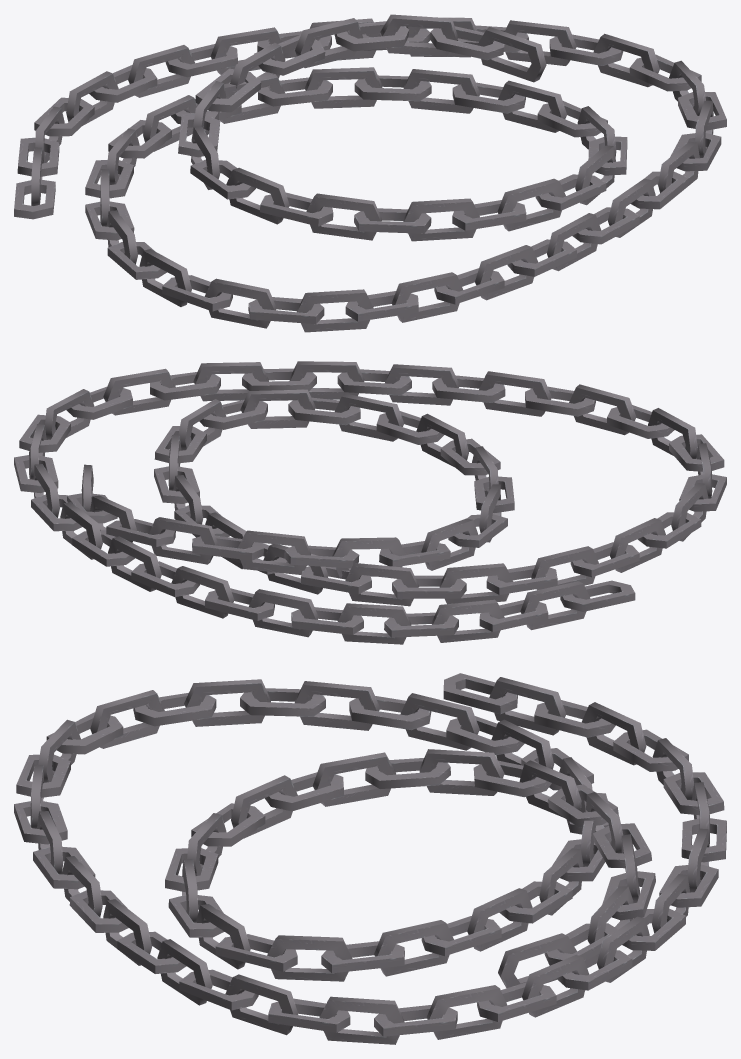
File: chain_coil-qI0Zgnx3.glb
3 renders of one model, top to bottom at view 1: azimuth 30°, elevation 25°; view 2: azimuth 150°, elevation 25°; view 3: azimuth 270°, elevation 25°, orthographic. The views are drawn at different scales.
Parts seen in each view (by area): view 1: Chain_Coil; view 2: Chain_Coil; view 3: Chain_Coil.
Boxes of the visible parts, x1,y1,x2,y2 form: Chain_Coil: (14, 14, 726, 332); Chain_Coil: (14, 361, 726, 644); Chain_Coil: (14, 673, 726, 1044).
Size of the model in its own units: 1.93 by 0.1569 by 1.63.
Materials: 1 (1 with a texture image).
